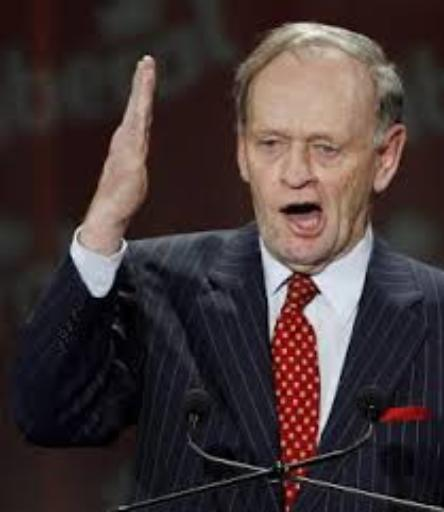left_eye: (313, 145, 346, 160)
left_lip_corner: (319, 202, 328, 219)
right_eye: (258, 140, 284, 153)
right_lip_corner: (277, 205, 288, 221)
